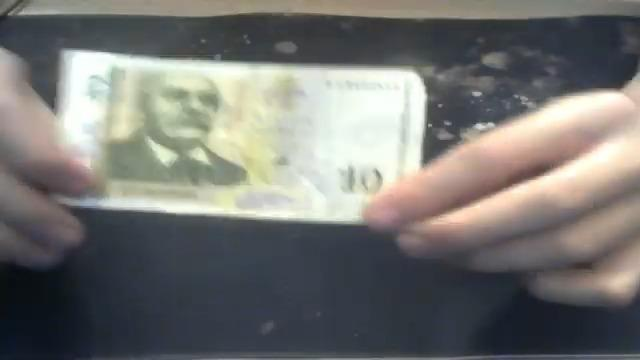10leva: (50, 14, 634, 225)
